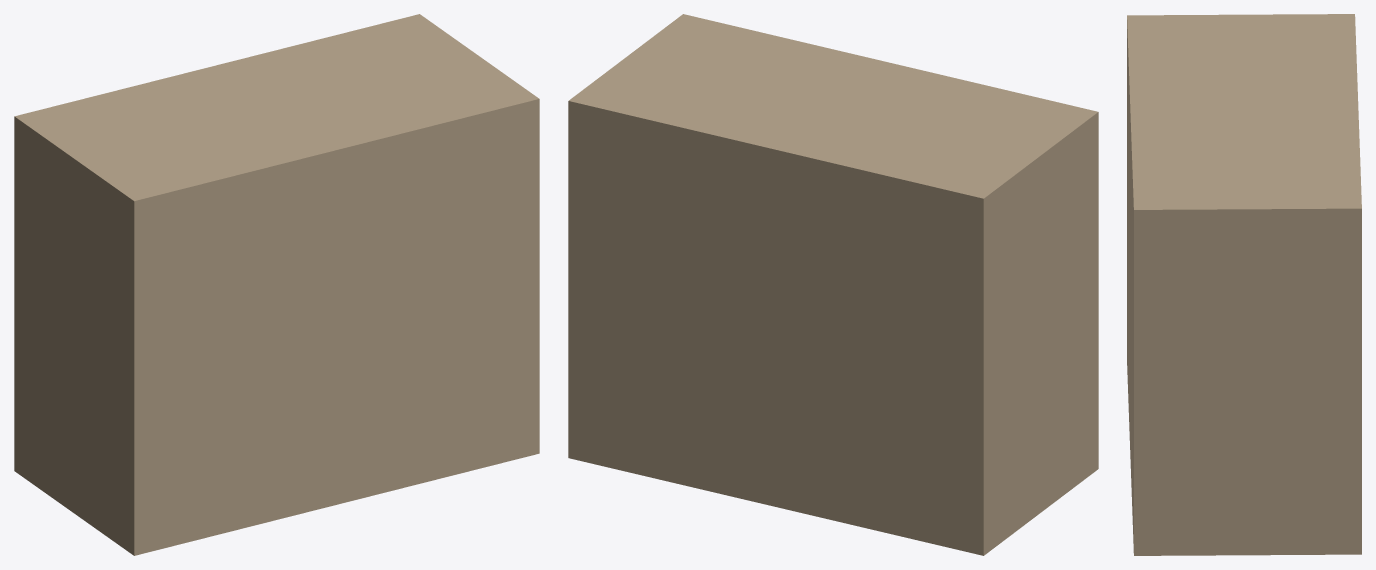
File: bld_164605992.dae
3 renders of one model, left to right at view 1: azimuth 30°, elevation 25°; view 2: azimuth 150°, elevation 25°; view 3: azimuth 270°, elevation 25°, orthographic. The views are drawn at different scales.
Parts seen in each view (by area): view 1: bld_164605992; view 2: bld_164605992; view 3: bld_164605992.
Part boxes in pixels (bbox=[...]): bld_164605992: bbox=[14, 14, 539, 555]; bld_164605992: bbox=[568, 14, 1098, 555]; bld_164605992: bbox=[1127, 14, 1361, 555].
Bounding box in the file's own units: 9.72 × 4.92 × 8.
